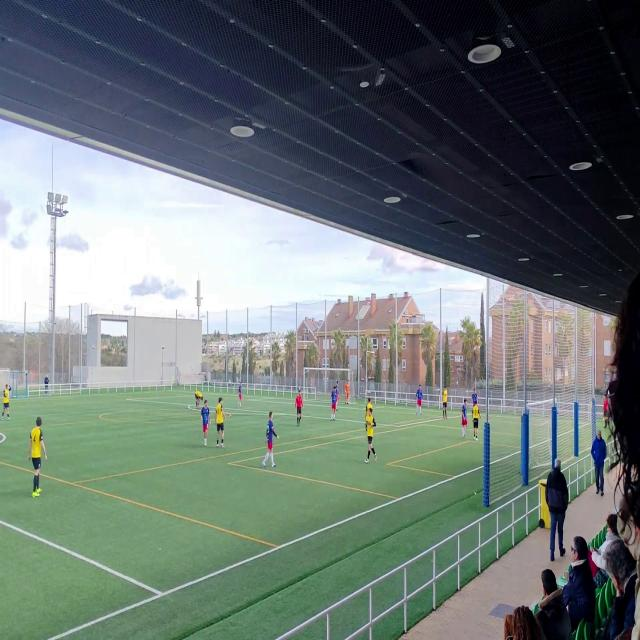bigarea_bottom_inner: (396, 422, 402, 430)
bigarea_top_inner: (124, 393, 130, 405)
bottom_arc_area_intersection: (282, 410, 291, 419)
corner: (586, 417, 594, 429), (170, 388, 175, 393)
midline_bottom_intersection: (150, 577, 172, 615)
smallarea_bottom_inner: (360, 406, 365, 414)
smallarea_bottom_outter: (382, 404, 387, 410)
smallarea_top_inner: (247, 397, 250, 403)
smallarea_top_outter: (271, 396, 277, 402)
top_arc_area_intersection: (188, 400, 194, 409)
